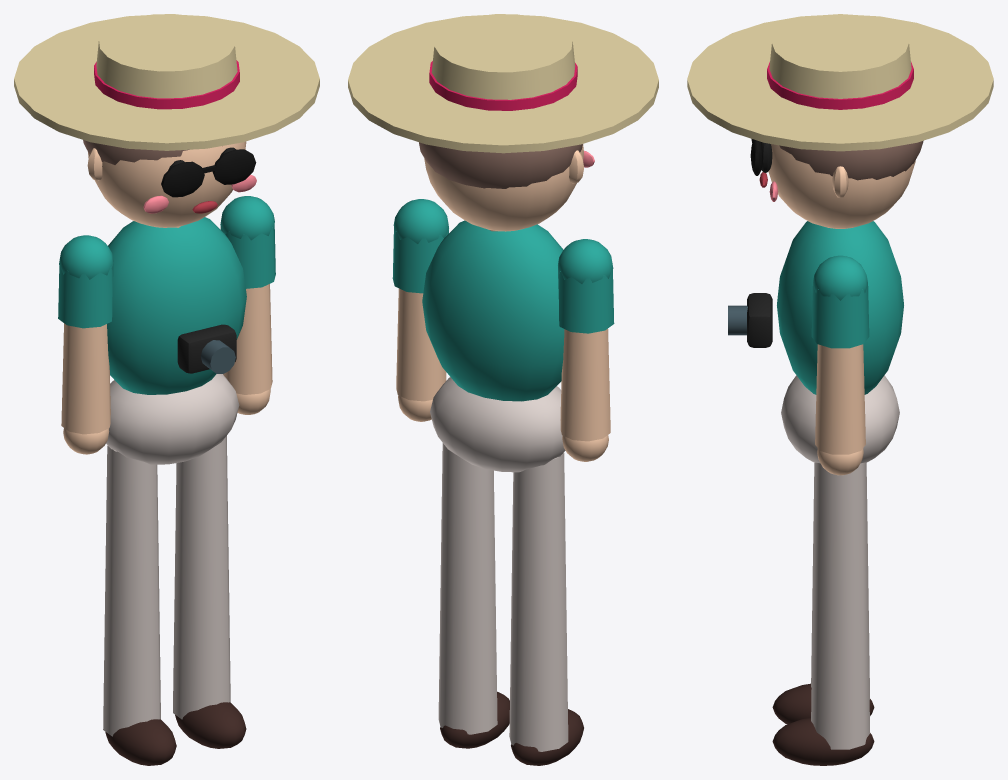
The model's file is cameos_tourist.glb.
3 renders of one model, left to right at view 1: azimuth 30°, elevation 25°; view 2: azimuth 150°, elevation 25°; view 3: azimuth 270°, elevation 25°, orthographic.
Parts seen in each view (by area): view 1: Body.012, CameosTouristExtra, Leg_R.012, Leg_L.012, Arm_R.012, Arm_L.012; view 2: Body.012, CameosTouristExtra, Leg_R.012, Leg_L.012, Arm_R.012, Arm_L.012; view 3: CameosTouristExtra, Body.012, Leg_L.012, Arm_L.012, Leg_R.012.
Boxes of the visible parts, x1,y1,x2,y2 form: Body.012: (83, 140, 256, 464); CameosTouristExtra: (14, 14, 319, 373); Leg_R.012: (103, 445, 176, 765); Leg_L.012: (173, 436, 246, 748); Arm_R.012: (58, 235, 113, 454); Arm_L.012: (220, 196, 275, 414); Body.012: (419, 142, 594, 472); CameosTouristExtra: (348, 14, 658, 153); Leg_R.012: (509, 452, 583, 765); Leg_L.012: (438, 443, 509, 748); Arm_R.012: (558, 239, 614, 461); Arm_L.012: (392, 199, 448, 421); CameosTouristExtra: (687, 14, 993, 347); Body.012: (750, 139, 923, 463); Leg_L.012: (772, 462, 874, 765); Arm_L.012: (811, 255, 869, 475); Leg_R.012: (772, 463, 874, 724).
Size of the model in its own units: 0.722 by 1.83 by 0.722.
